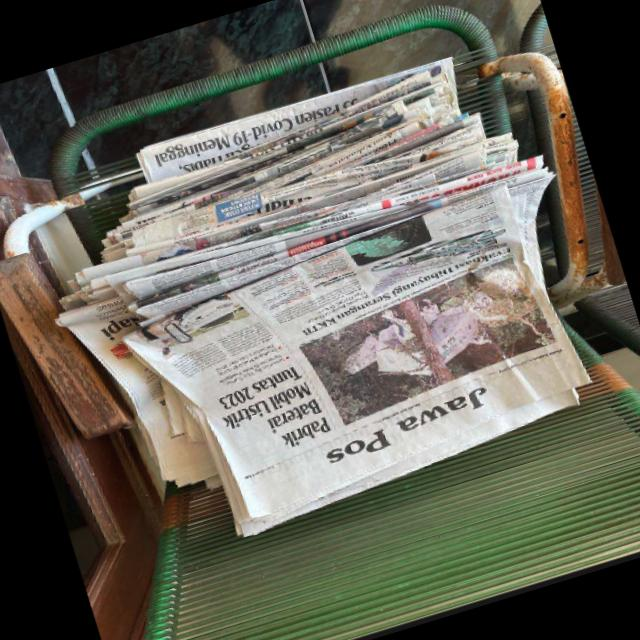Koran: (19, 29, 640, 570)
